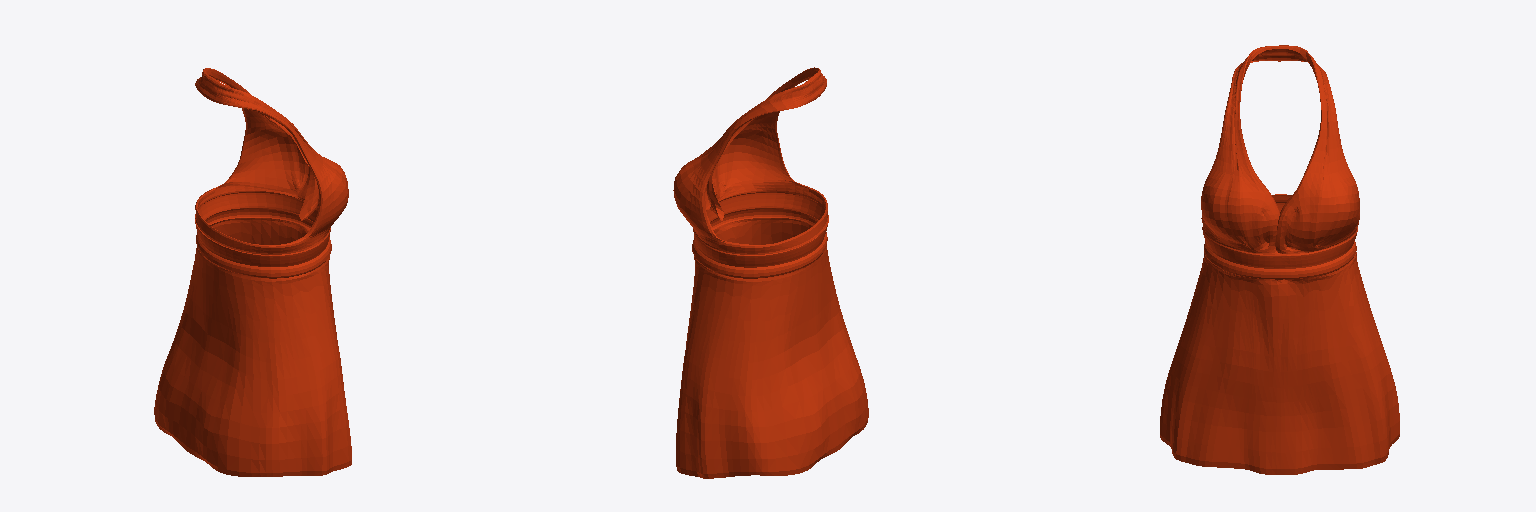
The model's file is duanqun6.obj.
The picture shows the model from 3 angles: view 1: azimuth 30°, elevation 25°; view 2: azimuth 150°, elevation 25°; view 3: azimuth 270°, elevation 25°; orthographic projection.
Visible parts, largest first — view 1: file.002; view 2: file.002; view 3: file.002.
Boxes of the visible parts, <box> form: file.002: <box>154,68,351,476</box>; file.002: <box>673,67,868,478</box>; file.002: <box>1160,45,1399,474</box>.
Size of the model in its own units: 2.47 by 6.25 by 3.61.